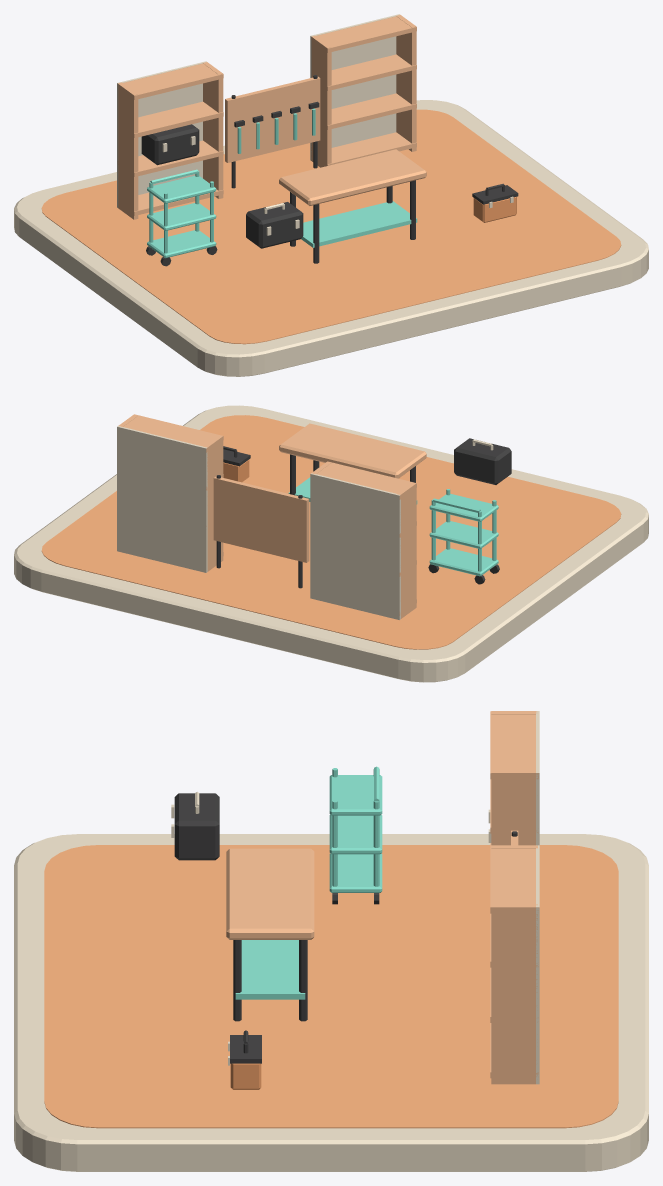
The model's file is room.fbx.
3 views of the same model, one above another, from view 1: azimuth 30°, elevation 25°; view 2: azimuth 150°, elevation 25°; view 3: azimuth 270°, elevation 25° (orthographic). The views are drawn at different scales.
Parts seen in each view (by area): view 1: COM-02 Floor Surface, COM-01 Rounded Base Direct, Peg board, Worktop, Back.001, Lower shelf, Back, Side, Case, Side.003, Side.001, Side.002 (+13 smaller); view 2: COM-02 Floor Surface, COM-01 Rounded Base Direct, Back.001, Back, Peg board, Worktop, Case, Side, Shelf.003, Shelf.007, Side.002, Tray.001 (+3 smaller); view 3: COM-02 Floor Surface, COM-01 Rounded Base Direct, Worktop, Side.003, Lower shelf, Case, Shelf.003, Shelf.007, Side.001, Tray.002, Tray.001, Tray (+5 smaller).
Part boxes in pixels (box(x1,y1,x2,y2)): COM-02 Floor Surface: box(41, 109, 621, 344); COM-01 Rounded Base Direct: box(14, 100, 648, 376); Peg board: box(225, 76, 320, 162); Worktop: box(279, 149, 426, 205); Back.001: box(310, 14, 399, 160); Lower shelf: box(301, 201, 417, 247); Back: box(117, 61, 206, 207); Side: box(118, 82, 138, 219); Case: box(246, 202, 303, 248); Side.003: box(396, 15, 416, 151); Side.001: box(203, 62, 223, 198); Side.002: box(311, 36, 331, 167); COM-02 Floor Surface: box(41, 415, 621, 649); COM-01 Rounded Base Direct: box(14, 405, 648, 682); Back.001: box(117, 426, 207, 572); Back: box(310, 473, 400, 619); Peg board: box(213, 476, 309, 562); Worktop: box(279, 423, 426, 478); Case: box(454, 438, 511, 484); Side: box(396, 482, 416, 618); Shelf.003: box(316, 461, 416, 499); Shelf.007: box(123, 414, 223, 452); Side.002: box(203, 435, 223, 571); Tray.001: box(429, 521, 498, 549); COM-02 Floor Surface: box(44, 845, 618, 1128); COM-01 Rounded Base Direct: box(14, 834, 648, 1171); Worktop: box(226, 848, 314, 939); Side.003: box(491, 904, 537, 1084); Lower shelf: box(235, 940, 305, 999); Case: box(174, 793, 219, 860); Shelf.003: box(490, 711, 538, 779); Shelf.007: box(490, 845, 538, 913); Side.001: box(491, 770, 535, 845); Tray.002: box(329, 775, 382, 815); Tray.001: box(329, 814, 382, 854); Tray: box(329, 853, 382, 892).
Size of the model in its own units: 600 by 190 by 520.
